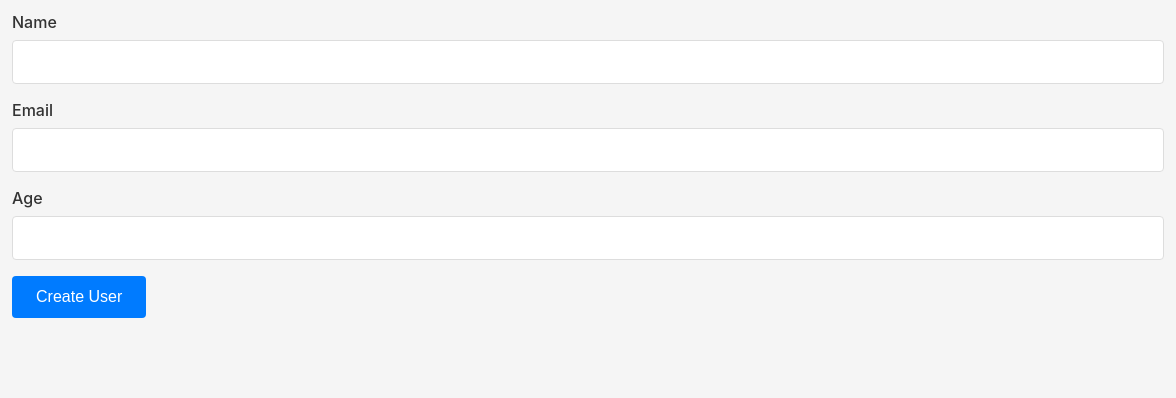
Test: UserForm Component › clears errors when user starts typing
# Trigger validation errors
Click the button with test id "submit-button".
click(79, 297)  # box [12,276,146,318]
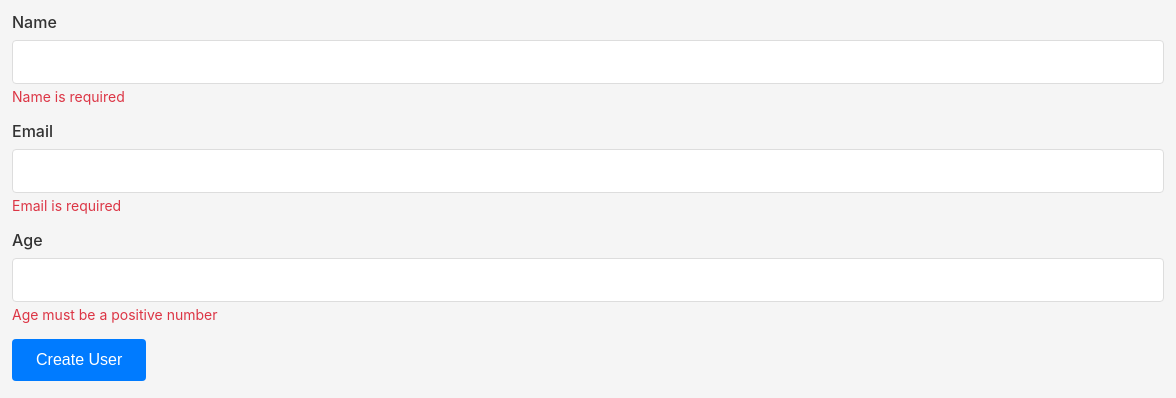
expect the text "Name is required" is shown: met, box [12,88,125,105]
# Start typing in name field
Type "J" into the field with test id "name-input".
click(588, 62); type("J")  # box [12,40,1164,84]
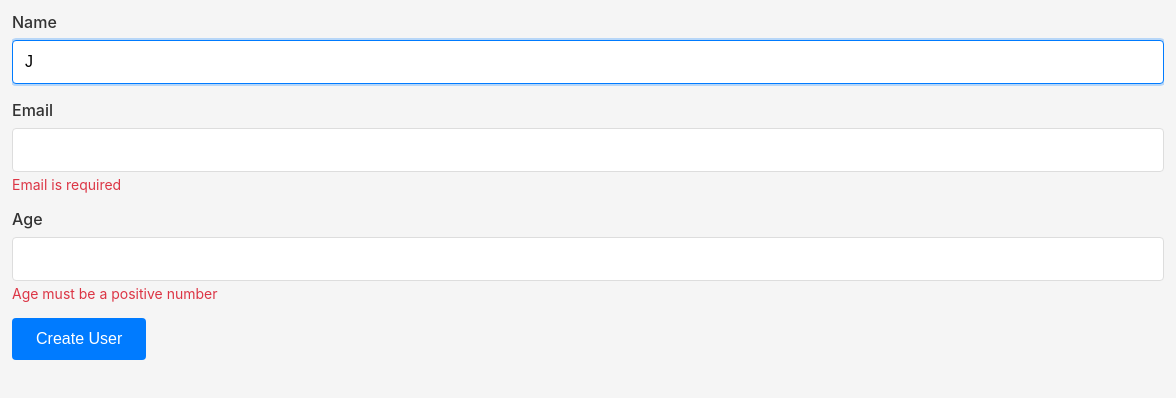
expect the text with test id "name-error" is gone: met
